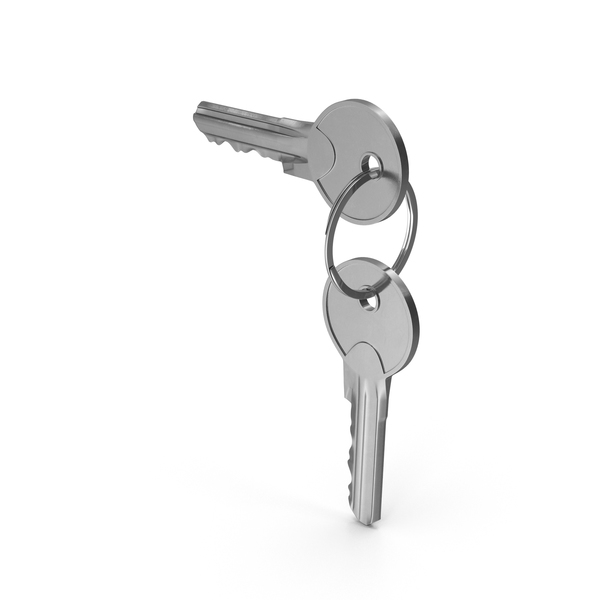key: (189, 77, 449, 537)
